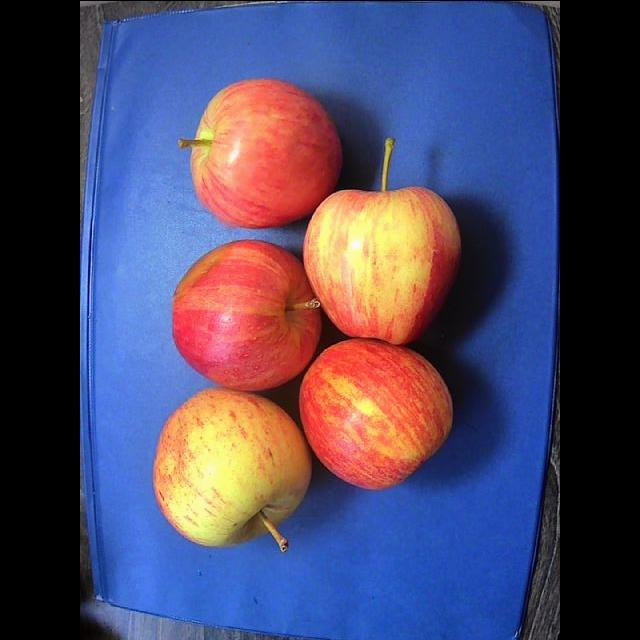manzana: (303, 137, 461, 343), (153, 387, 311, 550), (178, 78, 342, 226), (299, 338, 452, 487), (172, 239, 320, 389)
